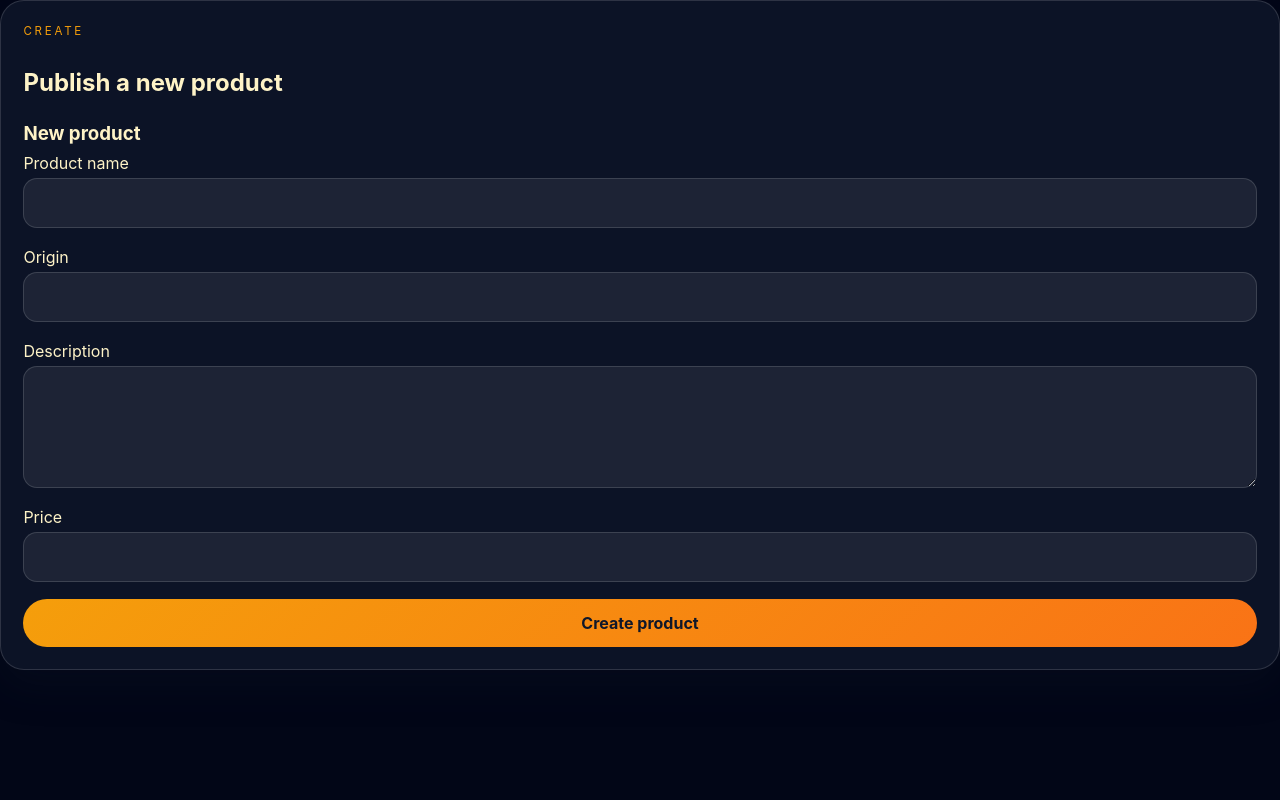
Test case: Store context › shows a newly created product on the products page
Type "Cocoa Reserve" into the field labelled "Product name" at (640, 203), box [23, 178, 1257, 228]
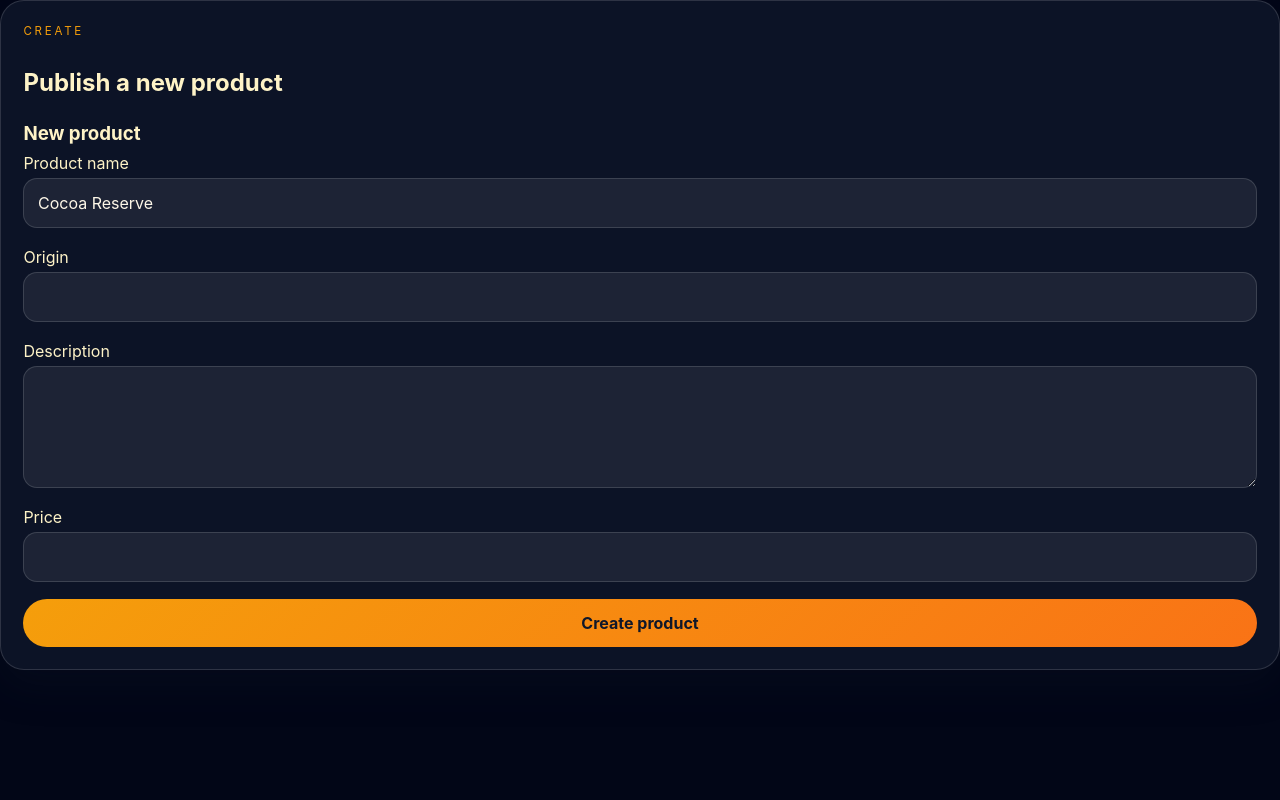
Type "Brazil" into the field labelled "Origin" at (640, 297), box [23, 272, 1257, 322]
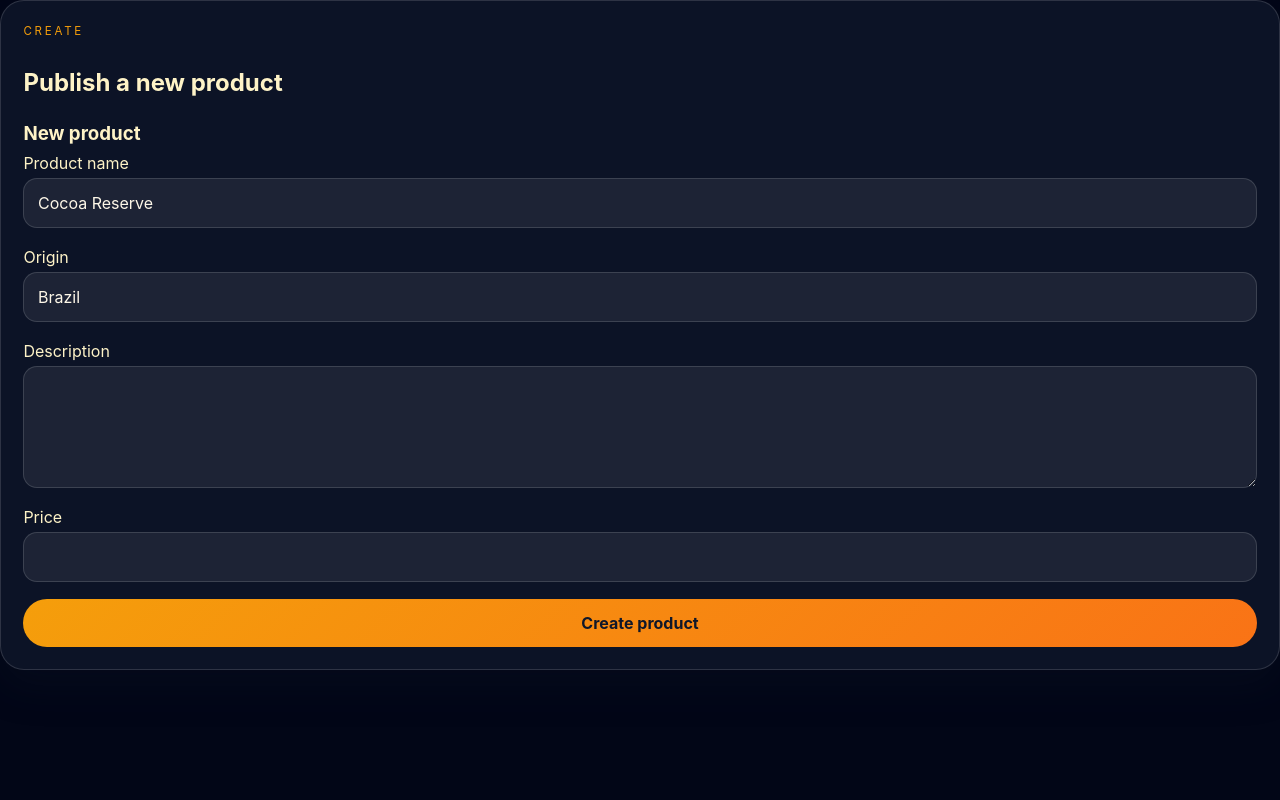
Type "Rich and velvety" into the text box labelled "Description" at (640, 427), box [23, 366, 1257, 488]
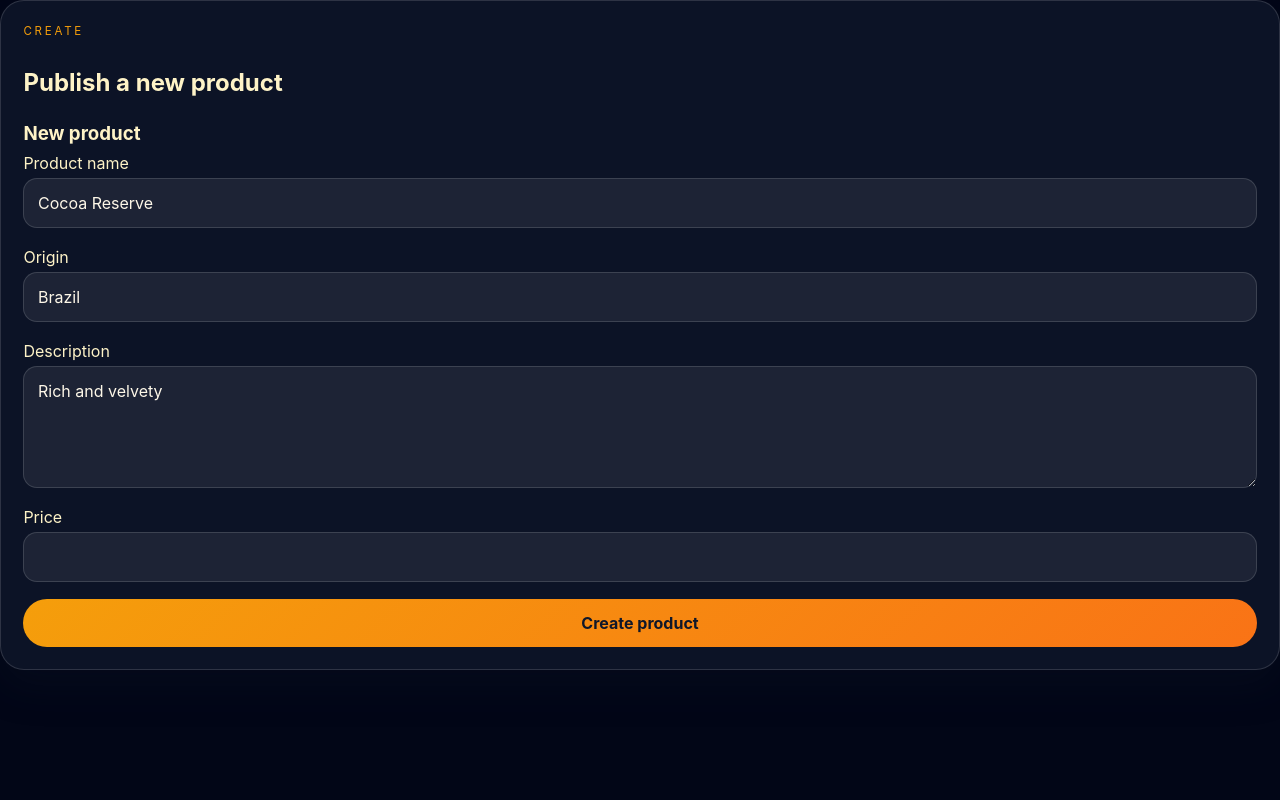
Type "16.5" into the number field labelled "Price" at (640, 557), box [23, 532, 1257, 582]
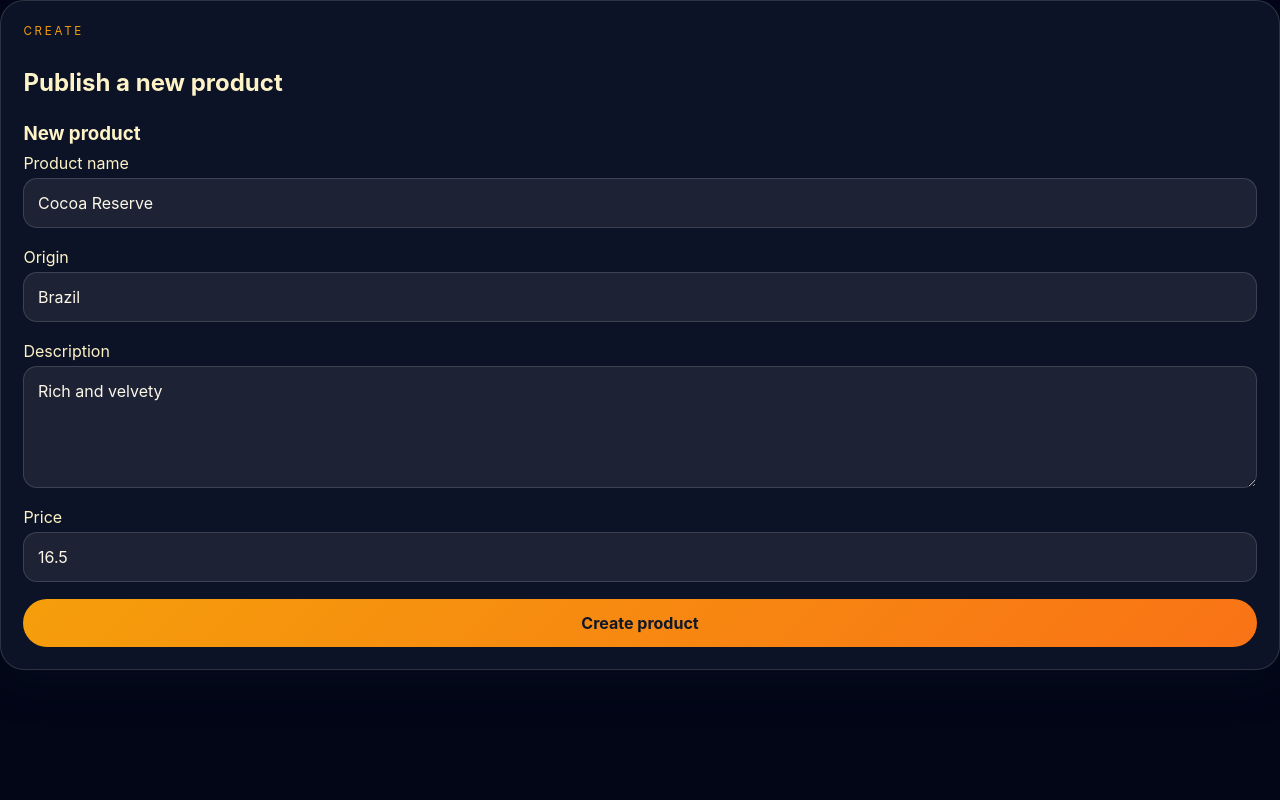
Click the button "Create product" at (640, 623), box [23, 599, 1257, 647]
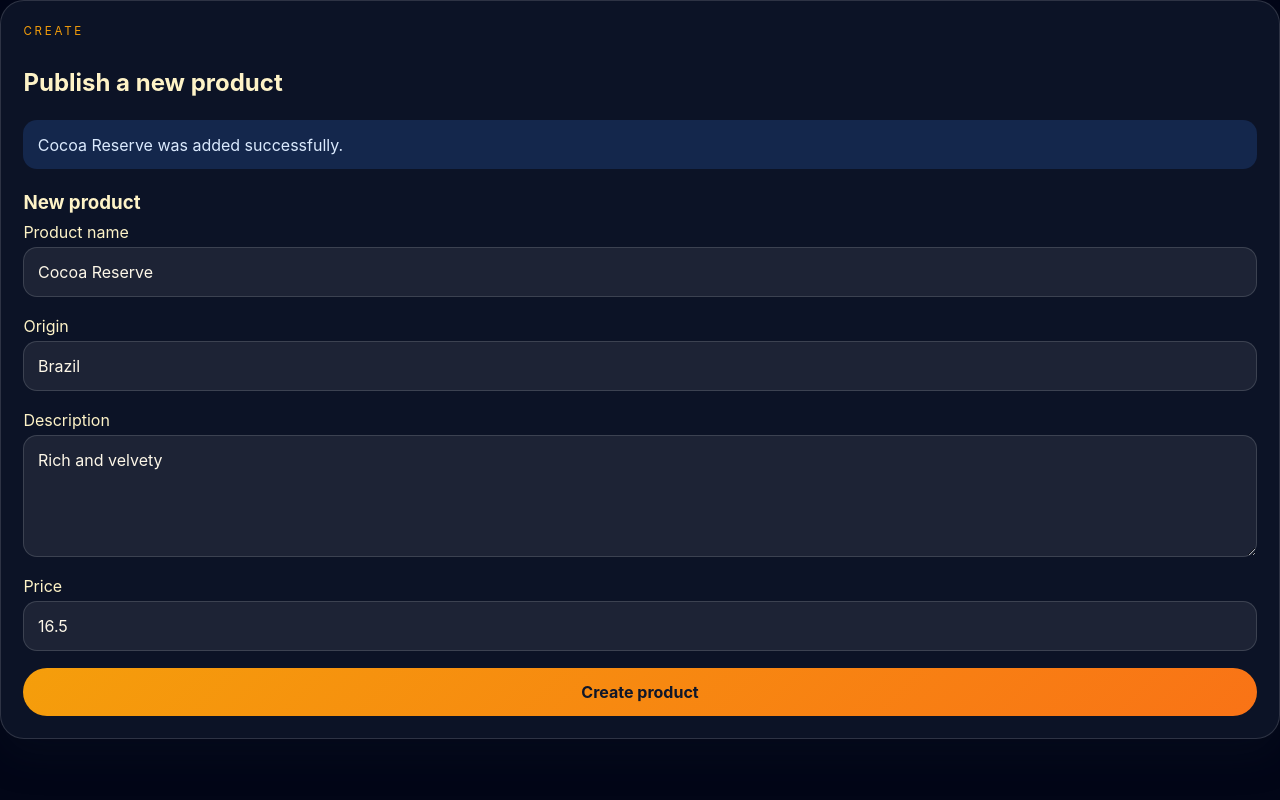
Expected: the text "Cocoa Reserve was added successfully." is shown, [23, 120, 1257, 169]
